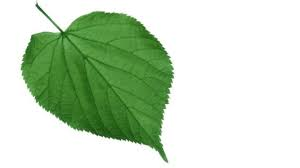healthy: (15, 9, 206, 156)
